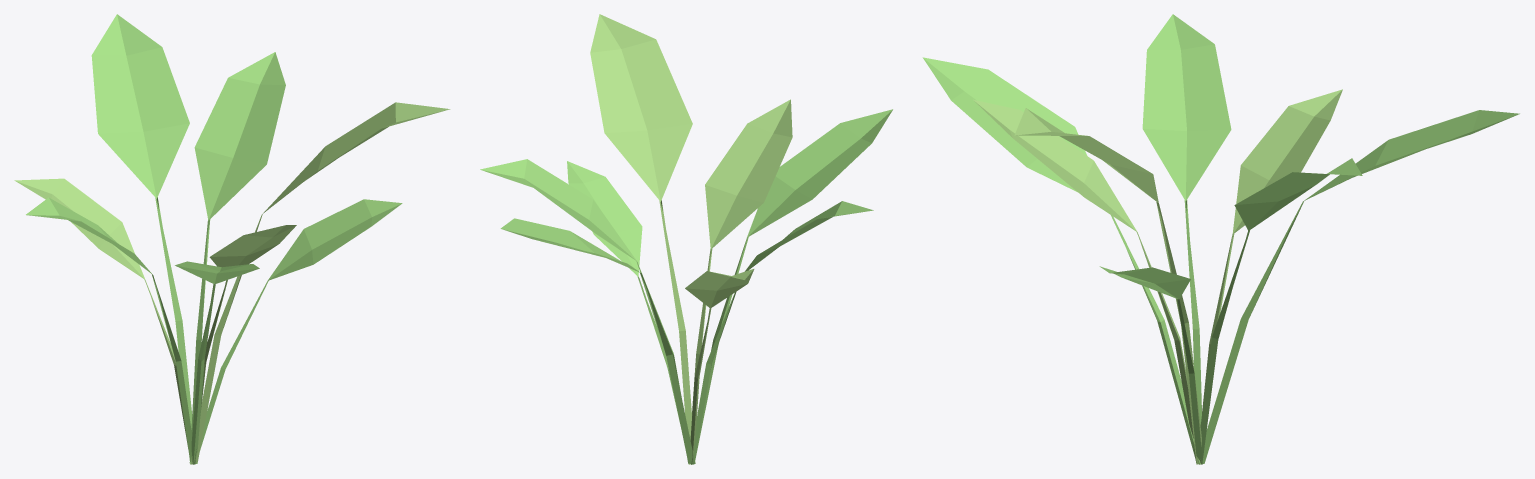
Rendered from Plant_j_OneS_05.fbx.
The picture shows the model from 3 angles, left to right: view 1: azimuth 30°, elevation 25°; view 2: azimuth 150°, elevation 25°; view 3: azimuth 270°, elevation 25°; orthographic projection. The views are drawn at different scales.
Parts seen in each view (by area): view 1: Plant_j_OneS_05; view 2: Plant_j_OneS_05; view 3: Plant_j_OneS_05.
Part boxes in pixels (x1=…): Plant_j_OneS_05: x1=14, y1=14, x2=450, y2=464; Plant_j_OneS_05: x1=480, y1=14, x2=892, y2=464; Plant_j_OneS_05: x1=922, y1=14, x2=1519, y2=464.
Size of the model in its own units: 0.5224 by 0.5178 by 0.6559.
